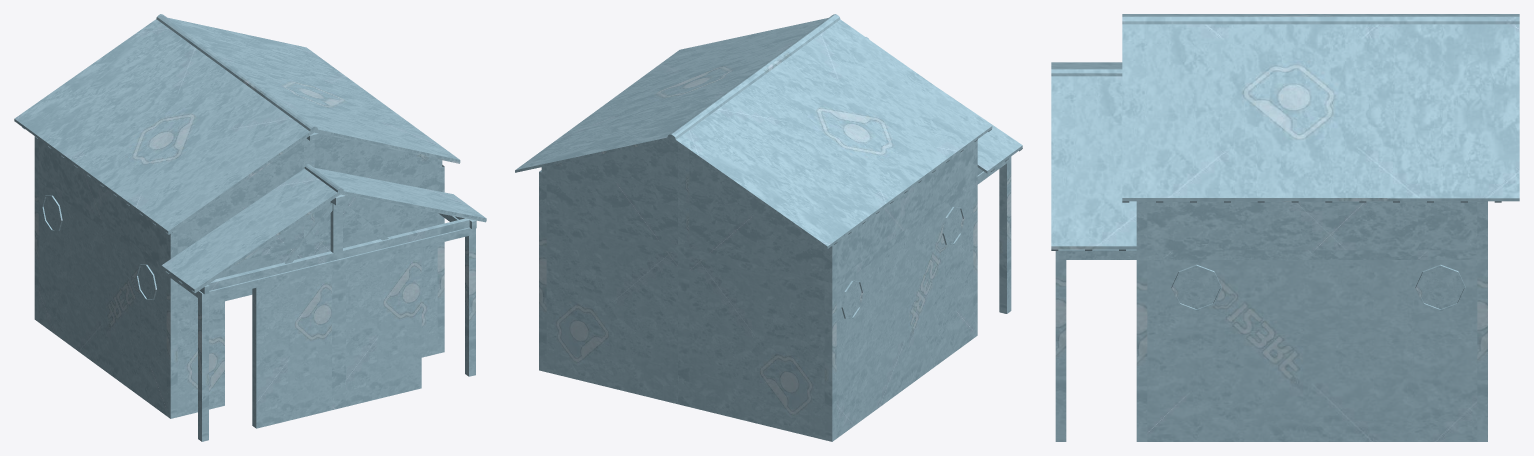
File: Banheiro.fbx
3 renders of one model, left to right at view 1: azimuth 30°, elevation 25°; view 2: azimuth 150°, elevation 25°; view 3: azimuth 270°, elevation 25°, orthographic. The views are drawn at different scales.
Parts seen in each view (by area): view 1: Plane; view 2: Plane; view 3: Plane.
Boxes of the visible parts, x1,y1,x2,y2 form: Plane: (14,14,486,441); Plane: (515,14,1022,441); Plane: (1051,14,1519,441).
Bounding box in the file's own units: 620 × 531 × 664.
